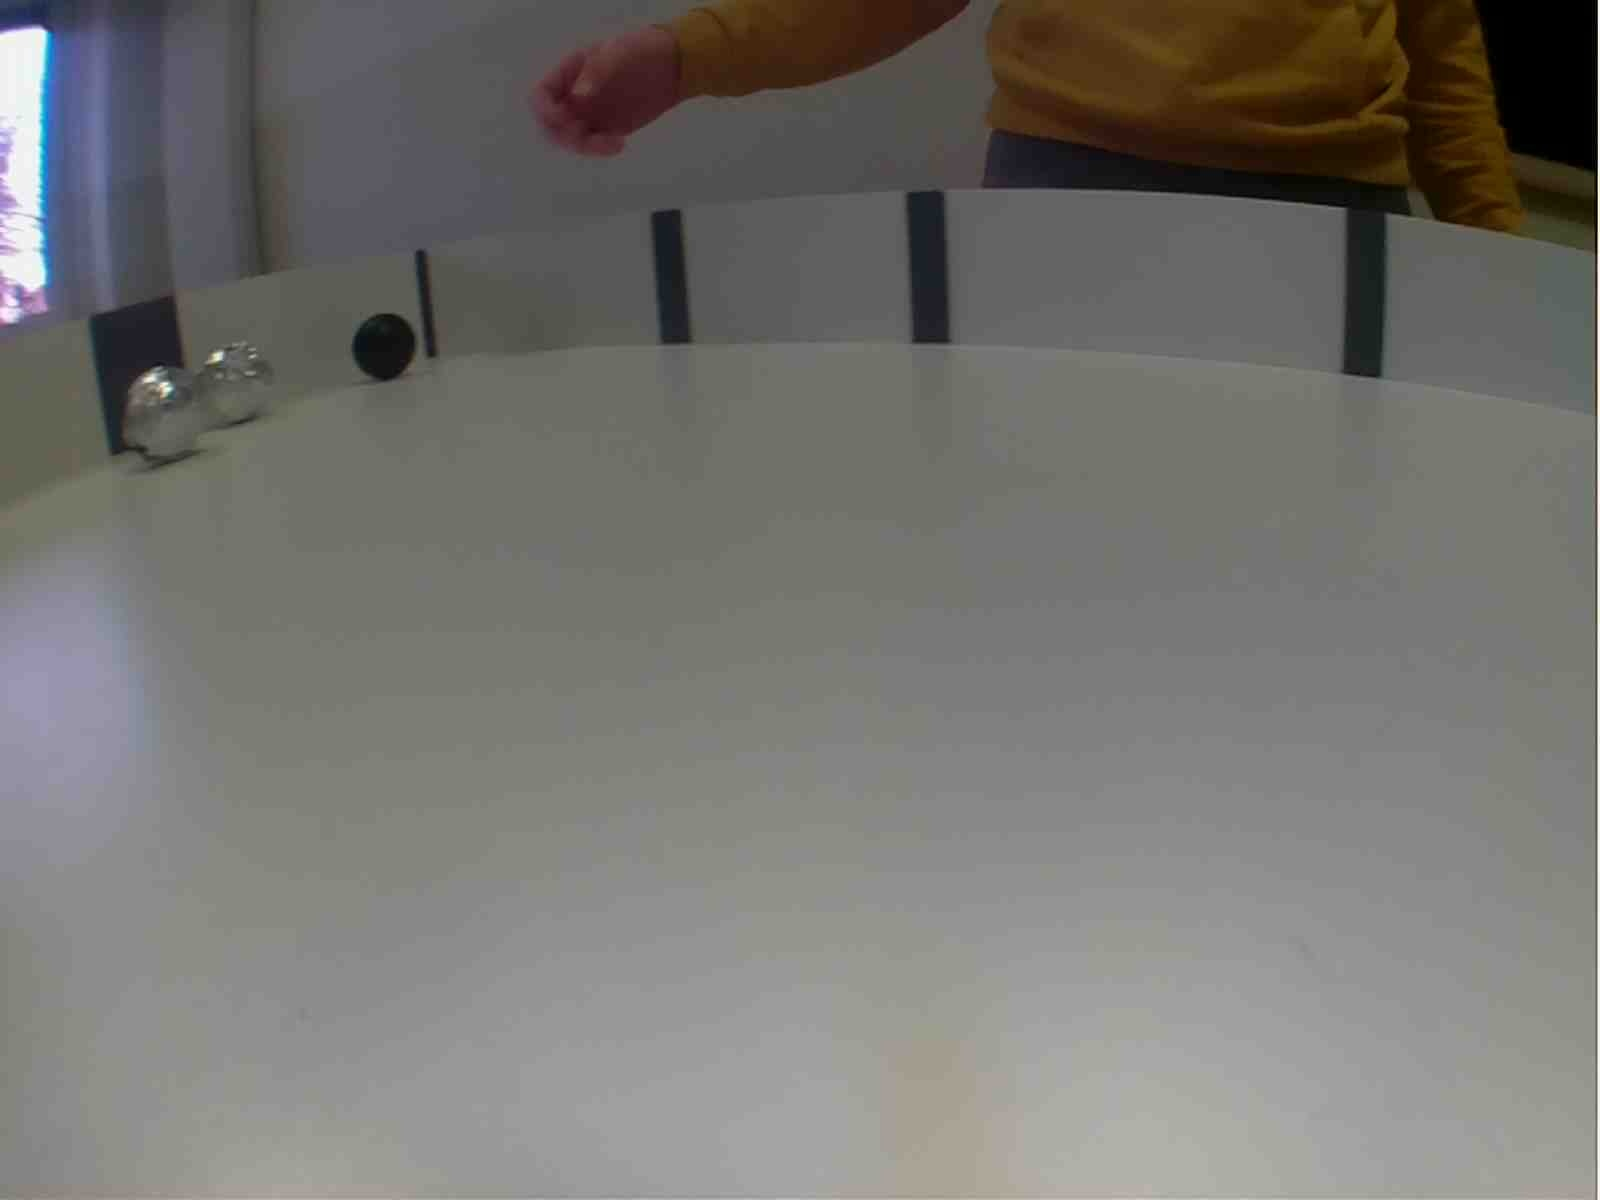bianca: (113, 361, 207, 463), (195, 338, 273, 427)
nera: (353, 313, 416, 383)
